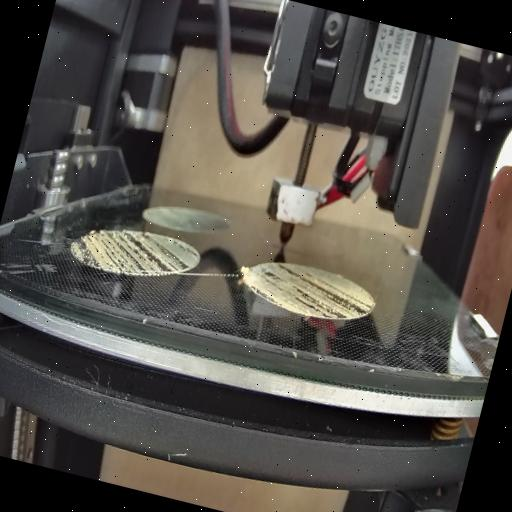under_extrusion: (69, 217, 197, 290), (252, 262, 378, 328)
